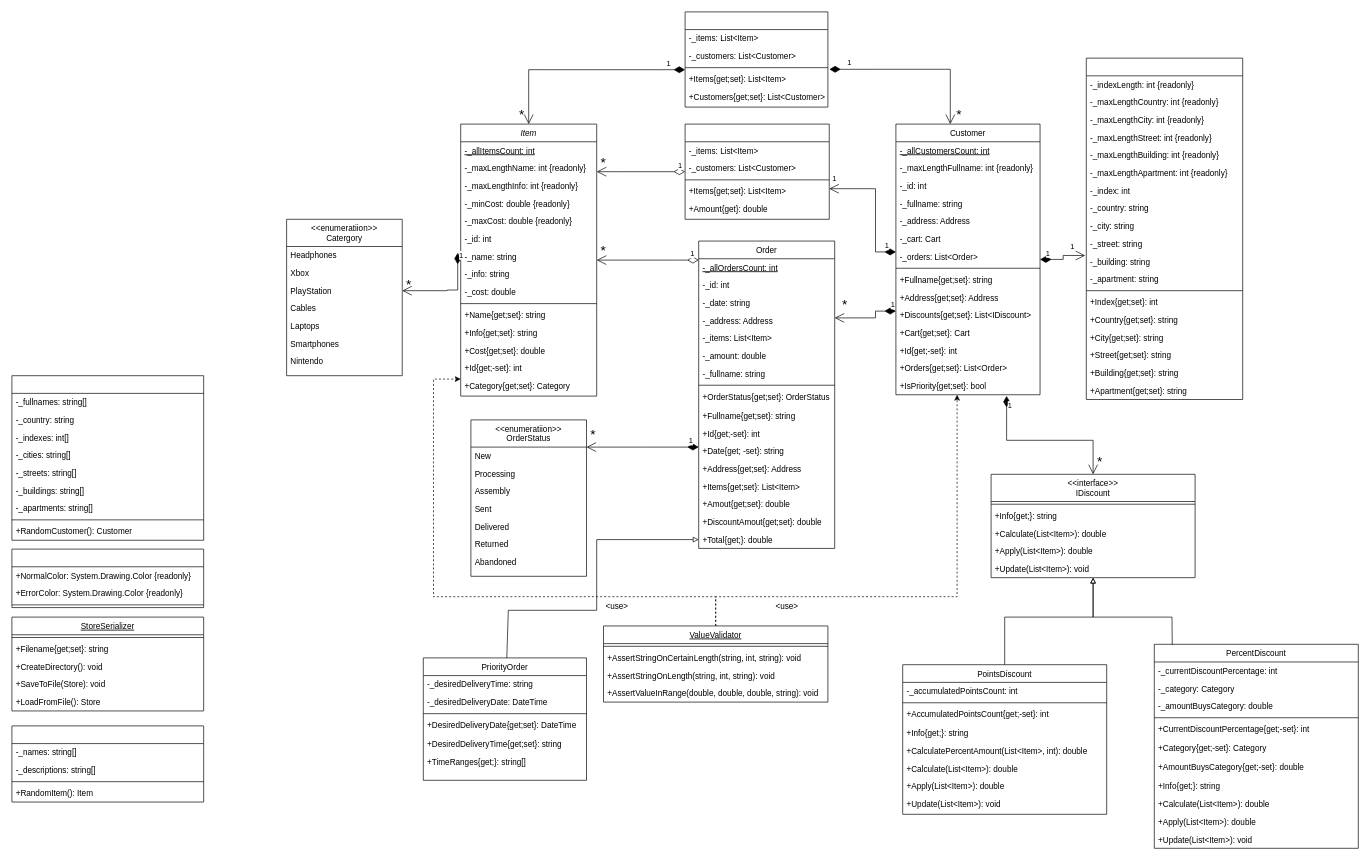
Some shapes in this 1370 by 862 pixel diagram are drawn without their labels. Here are the shapes that lost their labels. From the top down, the box of each, then its label:
(684, 11, 828, 107): Store
(684, 123, 829, 219): Cart
(1086, 57, 1243, 400): Address
(11, 375, 204, 540): CustomerFactory
(11, 548, 204, 608): AppColor
(11, 725, 204, 802): ItemFactory
